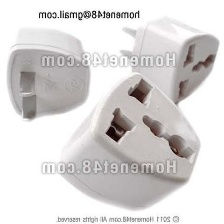three_eye_plug: (52, 65, 205, 216), (115, 6, 221, 111), (4, 20, 92, 122)
